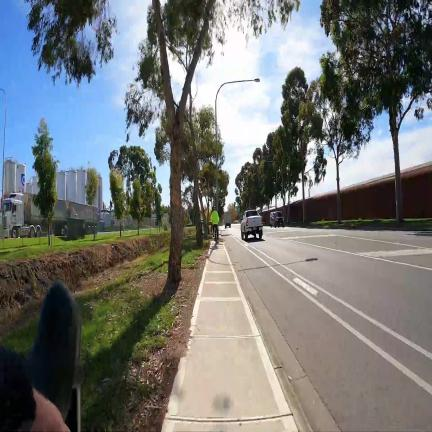Bike_Lane: (230, 241, 432, 430)
